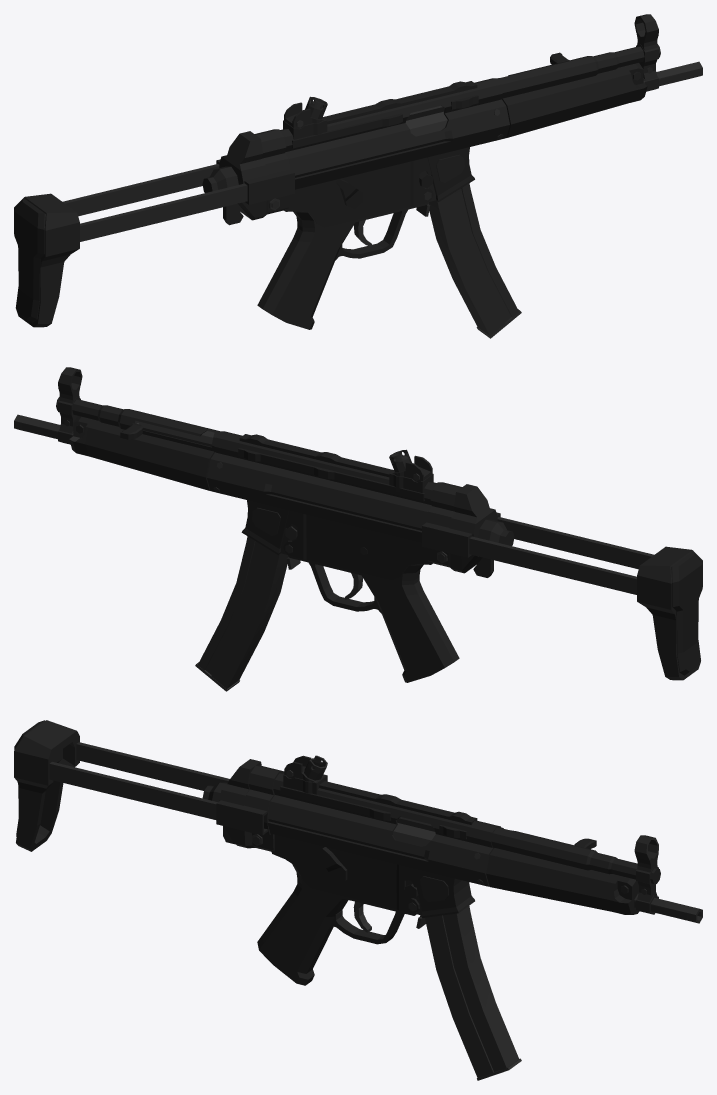
3 renders of one model, top to bottom at view 1: azimuth 30°, elevation 25°; view 2: azimuth 150°, elevation 25°; view 3: azimuth 330°, elevation 25°, orthographic.
Parts seen in each view (by area): view 1: Cylinder.001_0; view 2: Cylinder.001_0; view 3: Cylinder.001_0.
Boxes of the visible parts, box(x1,y1,x2,y2) form: Cylinder.001_0: box(14, 14, 702, 338); Cylinder.001_0: box(14, 367, 702, 691); Cylinder.001_0: box(14, 720, 702, 1080).
Size of the model in its own units: 1.13 by 0.4453 by 0.1002.
Materials: 1 (1 with a texture image).
